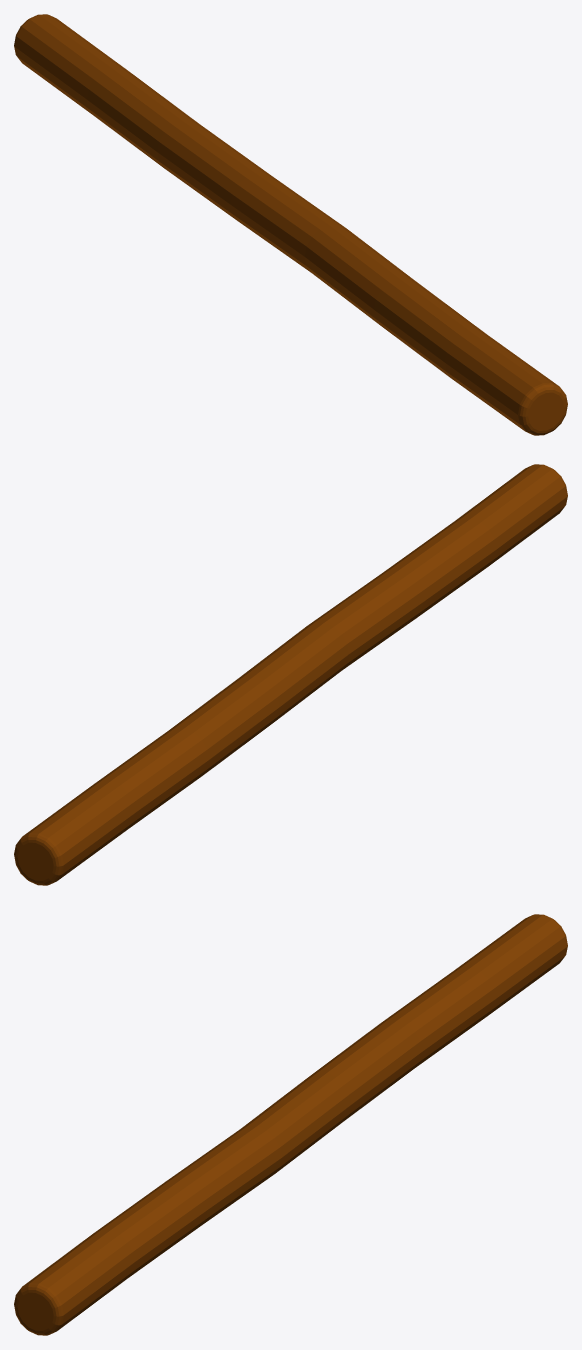
Rendered from tronco.fbx.
3 views of the same model, one above another, from view 1: azimuth 30°, elevation 25°; view 2: azimuth 150°, elevation 25°; view 3: azimuth 330°, elevation 25° (orthographic).
Visible parts, largest first — view 1: Tronco; view 2: Tronco; view 3: Tronco.
Part boxes in pixels (x1,y1,x2,y2): Tronco: (14, 14, 567, 435); Tronco: (14, 464, 567, 885); Tronco: (14, 914, 567, 1335).
Bounding box in the file's own units: 53.38 × 50 × 900.
